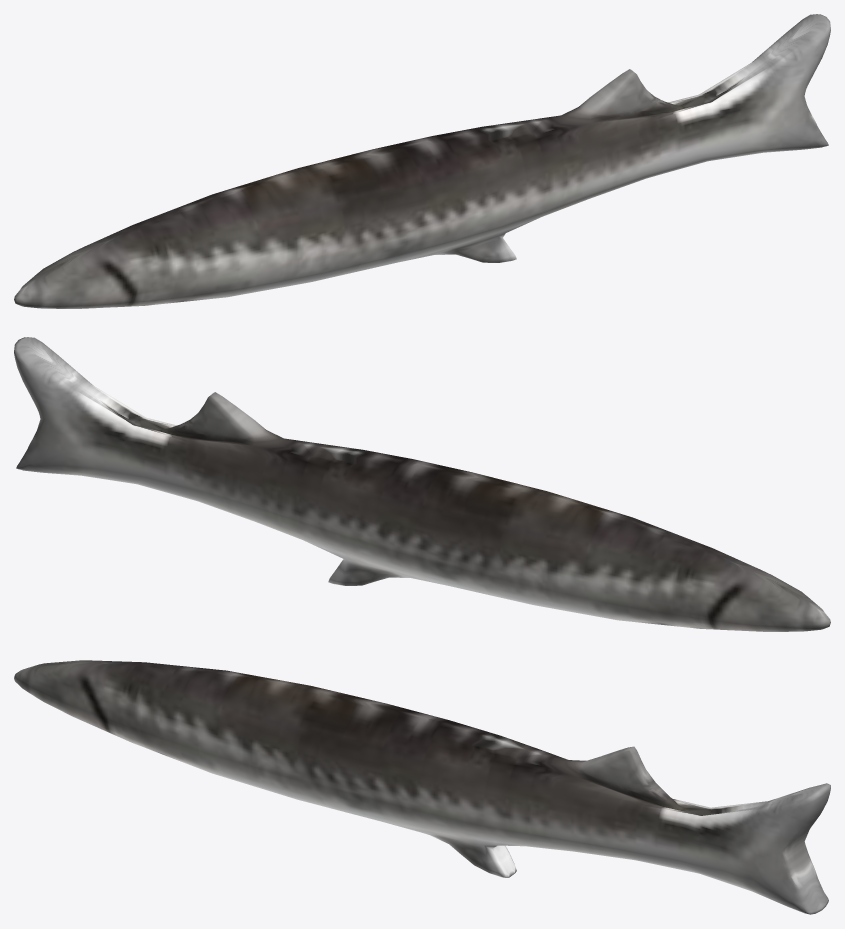
File: Joel.fbx
3 renders of one model, top to bottom at view 1: azimuth 30°, elevation 25°; view 2: azimuth 150°, elevation 25°; view 3: azimuth 330°, elevation 25°, orthographic.
Visible parts, largest first — view 1: Cube; view 2: Cube; view 3: Cube.
Boxes of the visible parts, bbox=[...] form: Cube: bbox=[14, 14, 830, 308]; Cube: bbox=[14, 337, 830, 631]; Cube: bbox=[14, 660, 830, 914].
Size of the model in its own units: 374 by 72.84 by 39.45.
